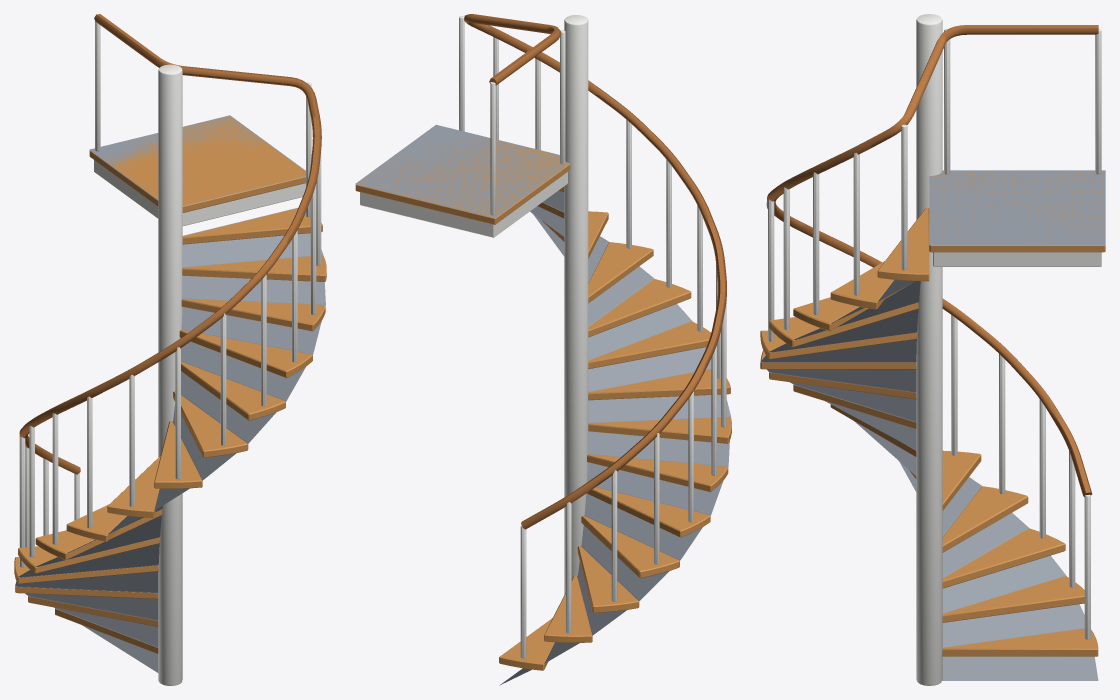
File: escada_caracol.glb
The picture shows the model from 3 angles, left to right: view 1: azimuth 30°, elevation 25°; view 2: azimuth 150°, elevation 25°; view 3: azimuth 270°, elevation 25°; orthographic projection. The views are drawn at different scales.
Visible parts, largest first — view 1: escada_caracol, colisao_malha; view 2: escada_caracol, colisao_malha; view 3: escada_caracol, colisao_malha.
Part boxes in pixels (<box>): escada_caracol: <box>14,14,326,685</box>; colisao_malha: <box>15,115,325,672</box>; escada_caracol: <box>355,14,731,670</box>; colisao_malha: <box>355,124,730,685</box>; escada_caracol: <box>760,14,1105,685</box>; colisao_malha: <box>761,170,1105,680</box>.
Size of the model in its own units: 1.96 by 4.15 by 1.96.
Materials: 1 (1 with a texture image).
